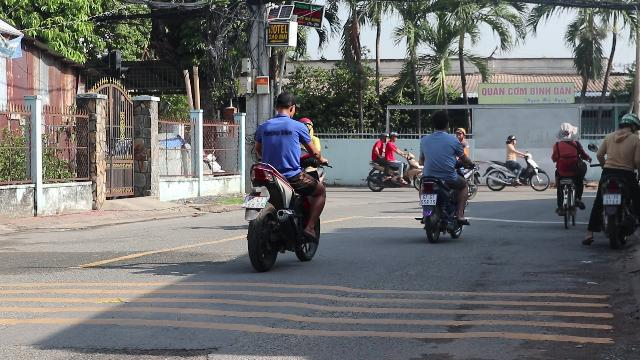helmet: (616, 113, 638, 133)
licenseplate: (242, 196, 268, 208), (602, 193, 620, 203), (420, 195, 436, 206)
motorcyclist: (240, 90, 328, 270), (412, 109, 472, 241), (589, 113, 639, 247)
nohelmet: (273, 90, 297, 117), (428, 110, 449, 132)
